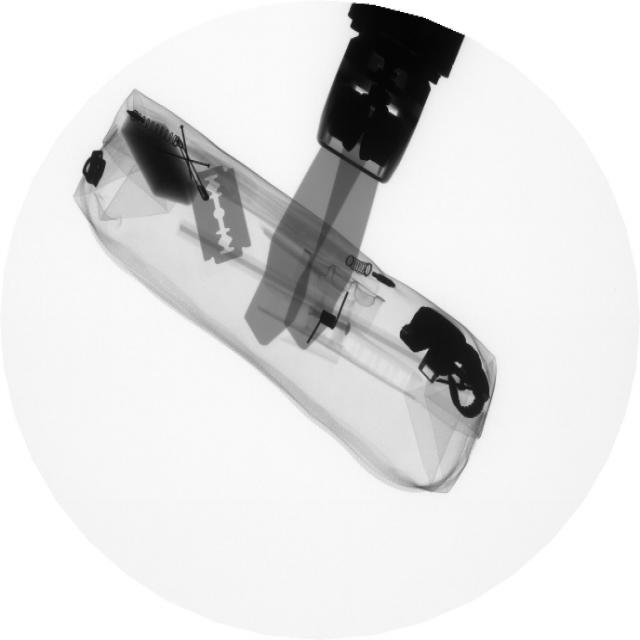BLADE: (184, 152, 257, 276)
